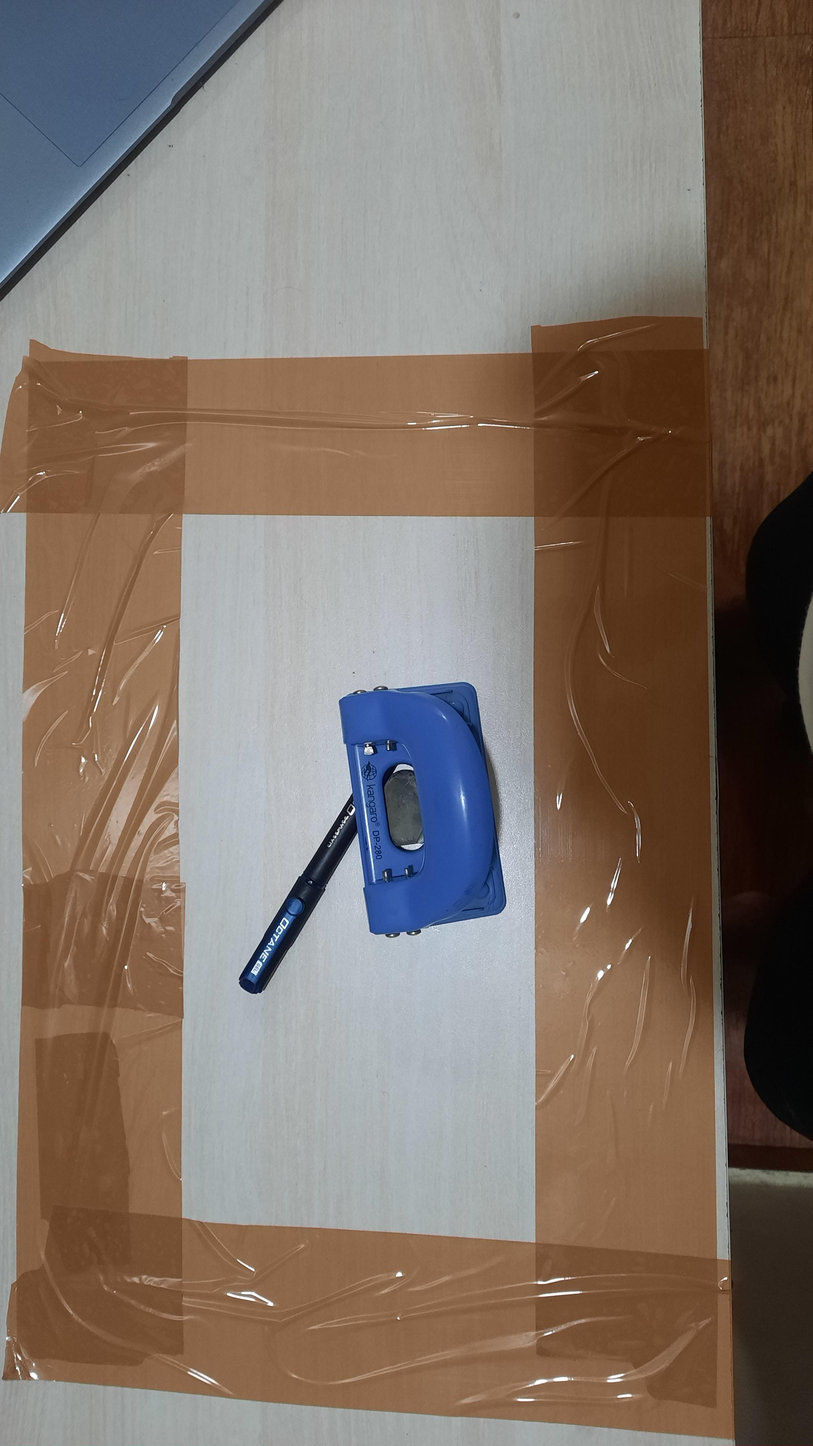Pen: (238, 793, 358, 994)
Punch: (339, 682, 507, 938)
